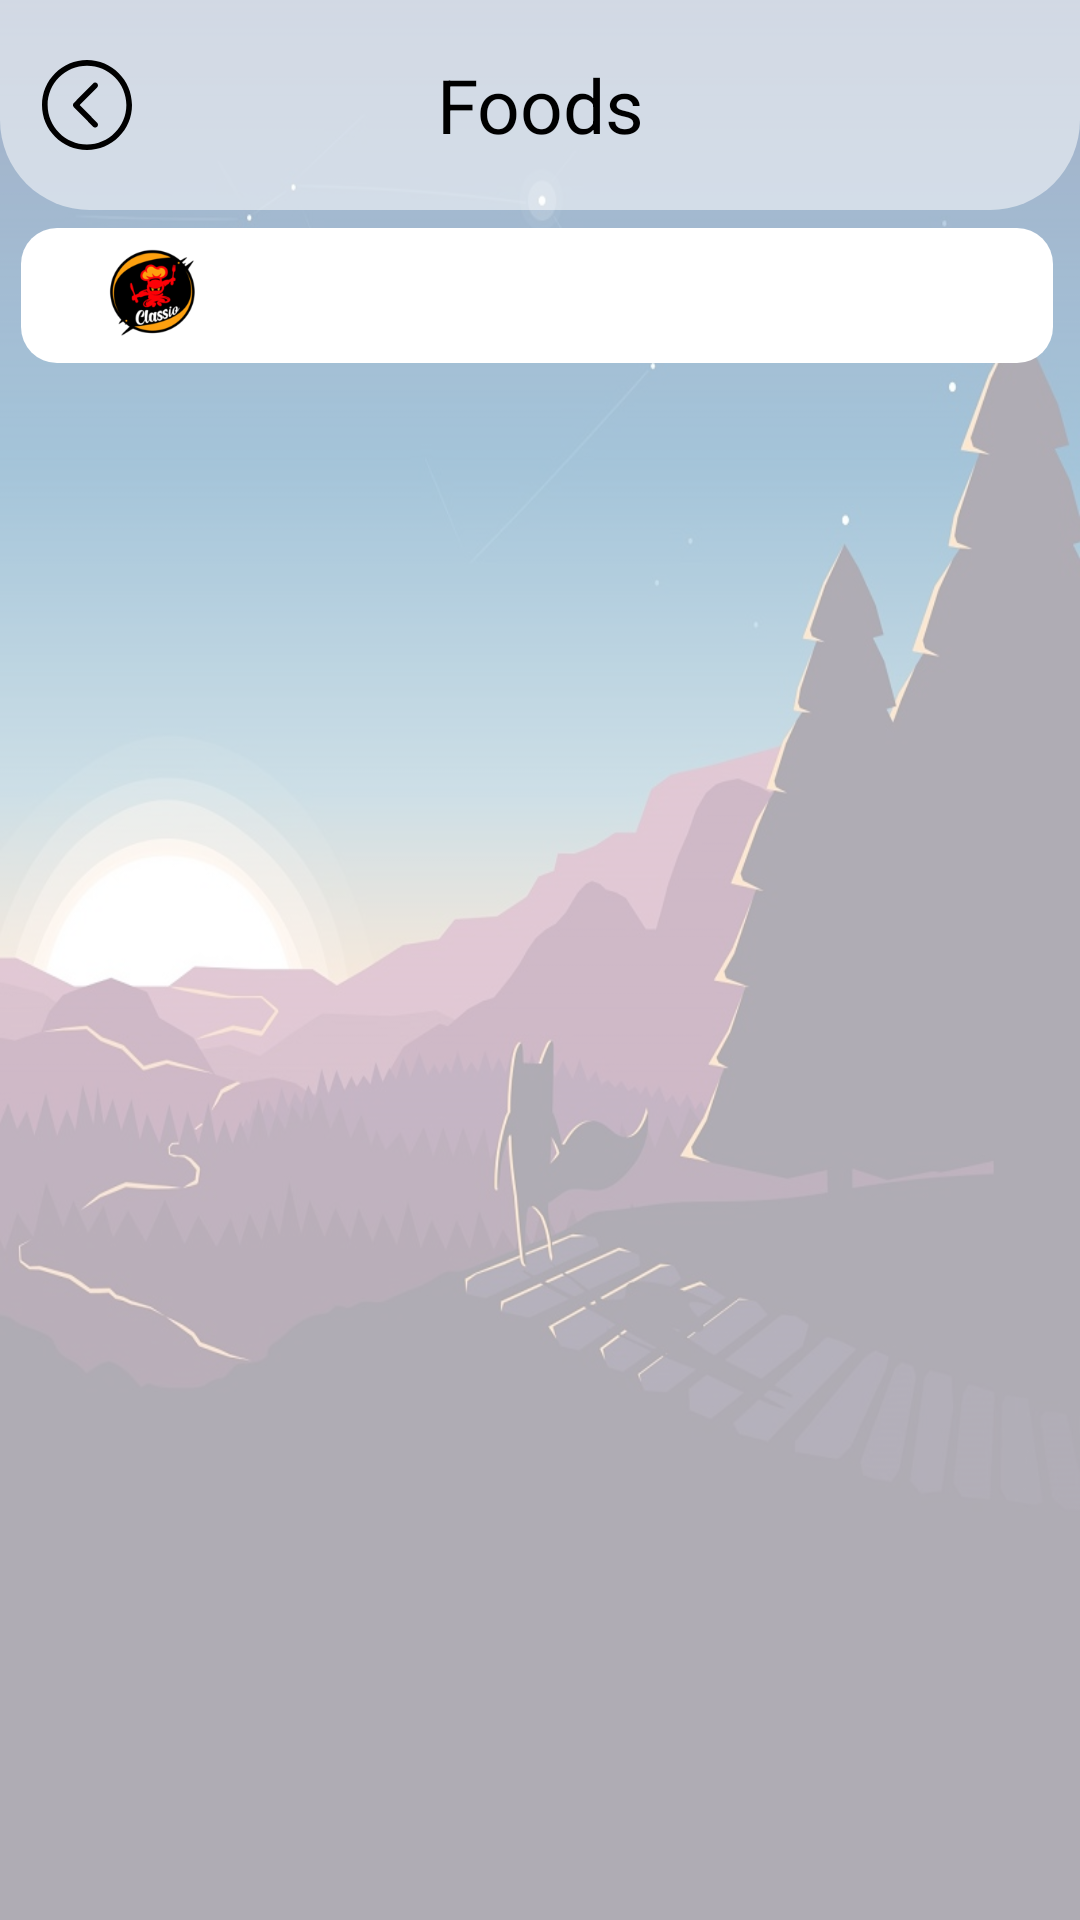

Where icons sit on this 1080 x 1920 app screen, as [x1,y1,x2,y2]:
backdx: [42,60,132,150]
